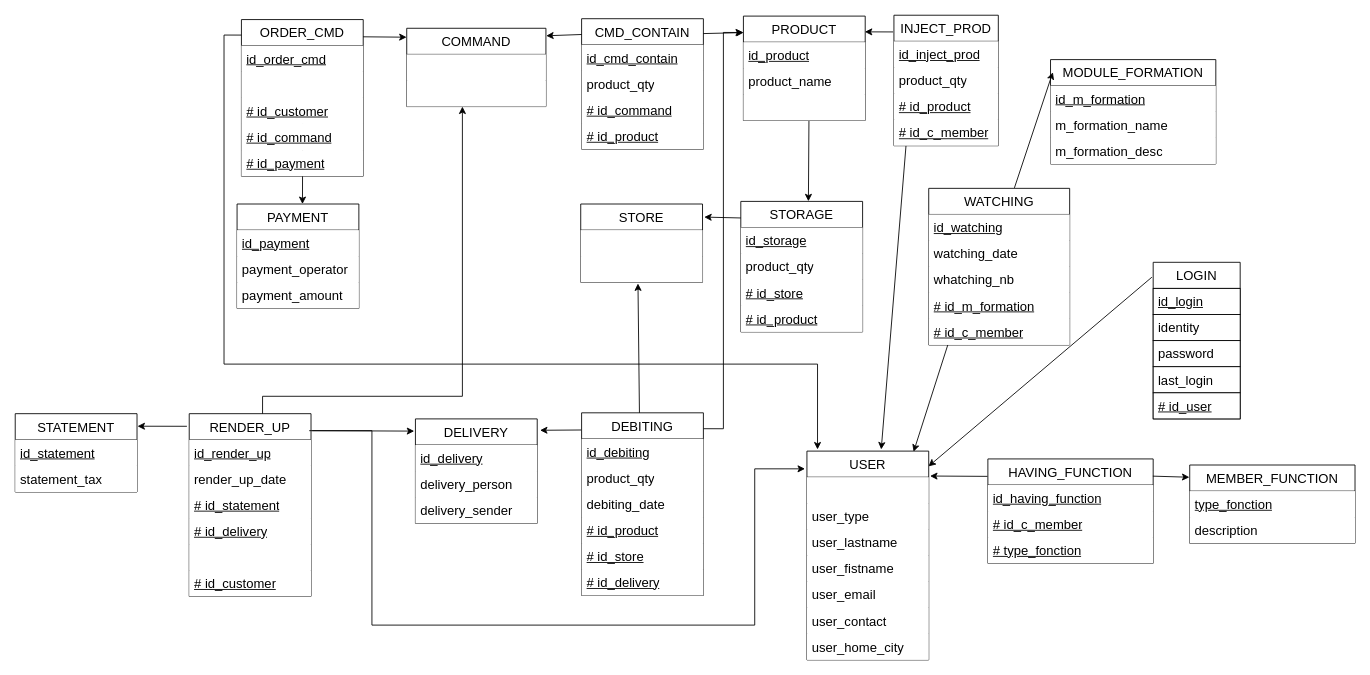
Some shapes in this 1370 by 675 pixel diagram are drawn without their labels. Here are the shapes that lost their labels. From the top down, the centre of each, then its label:
At (302,84): "date_payment".
At (475,67): "id_command".
At (475,93): "command_quotation".
At (804,107): "product_unity_price".
At (641,243): "id_store".
At (641,269): "store_home_city".
At (867,490): "id_user".
